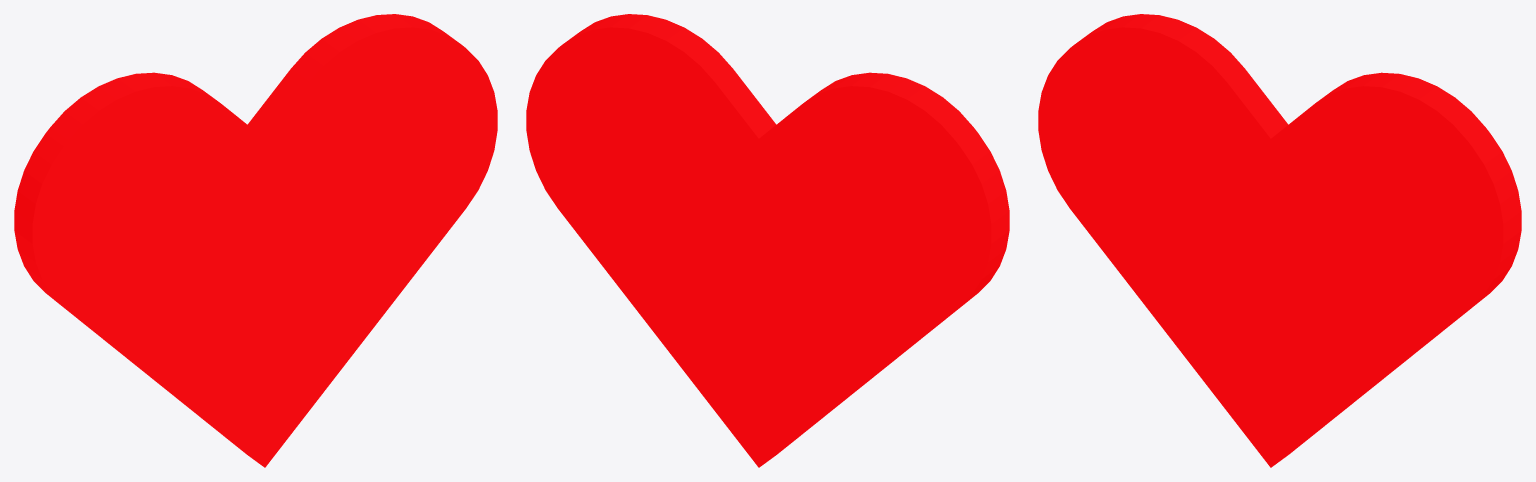
File: CorazonAsset.glb
The picture shows the model from 3 angles, left to right: view 1: azimuth 30°, elevation 25°; view 2: azimuth 150°, elevation 25°; view 3: azimuth 330°, elevation 25°; orthographic projection.
Visible parts, largest first — view 1: Cube; view 2: Cube; view 3: Cube.
Boxes of the visible parts, x1,y1,x2,y2 form: Cube: (14, 14, 497, 467); Cube: (526, 14, 1009, 467); Cube: (1038, 14, 1521, 467).
Size of the model in its own units: 4.18 by 3.51 by 0.2844.
